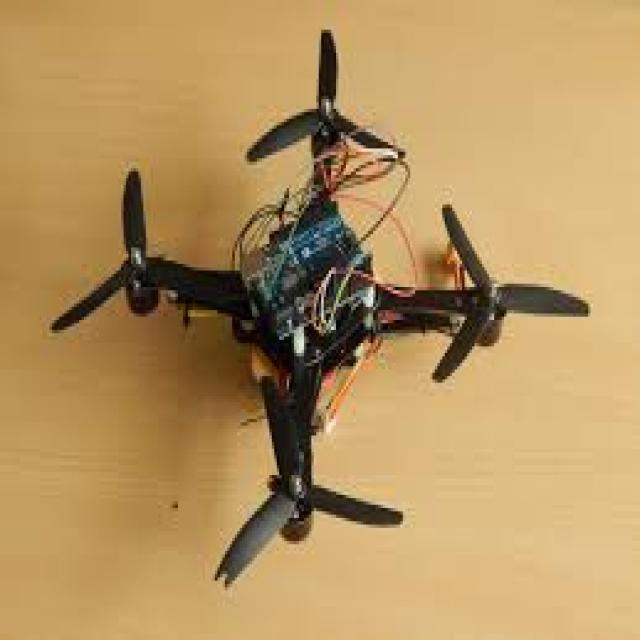drone: (42, 45, 568, 584)
